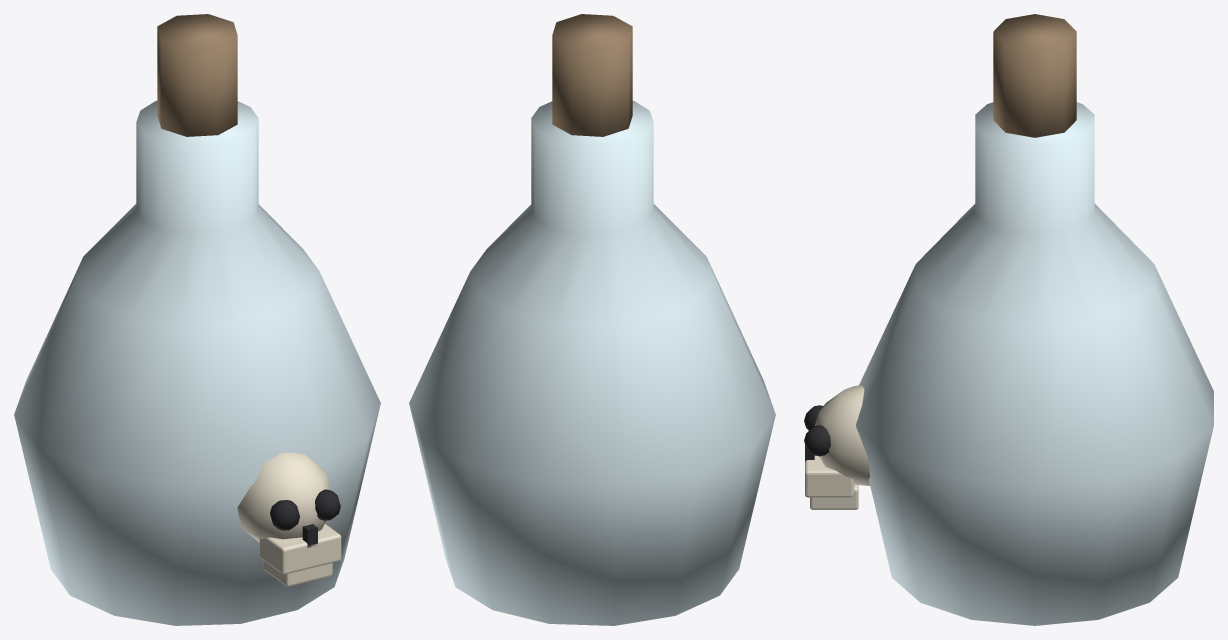
Rendered from potion_skull_purple.glb.
3 renders of one model, left to right at view 1: azimuth 30°, elevation 25°; view 2: azimuth 150°, elevation 25°; view 3: azimuth 270°, elevation 25°, orthographic.
Parts seen in each view (by area): view 1: GD_potion_skull_purple__m0, GD_potion_skull_purple__m2, GD_potion_skull_purple__m3, GD_potion_skull_purple__m4; view 2: GD_potion_skull_purple__m0, GD_potion_skull_purple__m2; view 3: GD_potion_skull_purple__m0, GD_potion_skull_purple__m2, GD_potion_skull_purple__m3, GD_potion_skull_purple__m4.
Boxes of the visible parts, x1,y1,x2,y2 form: GD_potion_skull_purple__m0: (14,100,380,625); GD_potion_skull_purple__m2: (157,14,237,136); GD_potion_skull_purple__m3: (237,452,341,586); GD_potion_skull_purple__m4: (270,489,340,547); GD_potion_skull_purple__m0: (409,100,775,625); GD_potion_skull_purple__m2: (552,14,632,136); GD_potion_skull_purple__m0: (856,102,1213,625); GD_potion_skull_purple__m2: (993,14,1076,137); GD_potion_skull_purple__m3: (805,385,869,509); GD_potion_skull_purple__m4: (804,405,830,461).
Size of the model in its own units: 0.15 by 0.24 by 0.1675.
